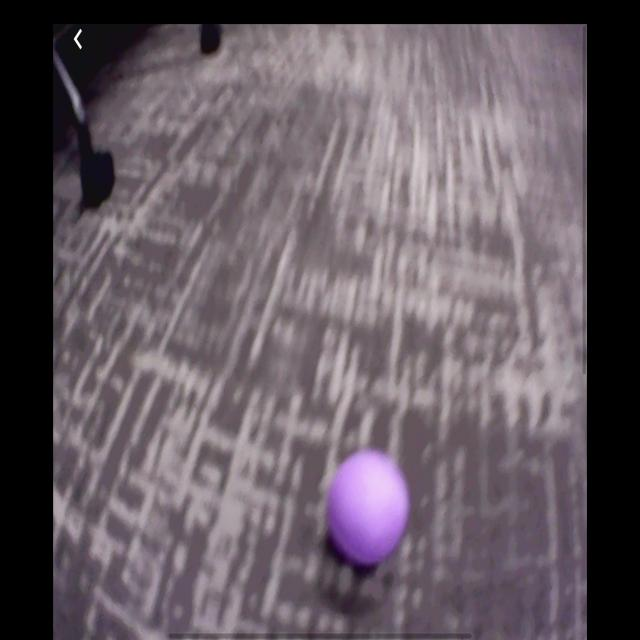ball: (327, 448, 412, 569)
